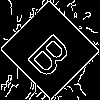B: (25, 25, 81, 81)
